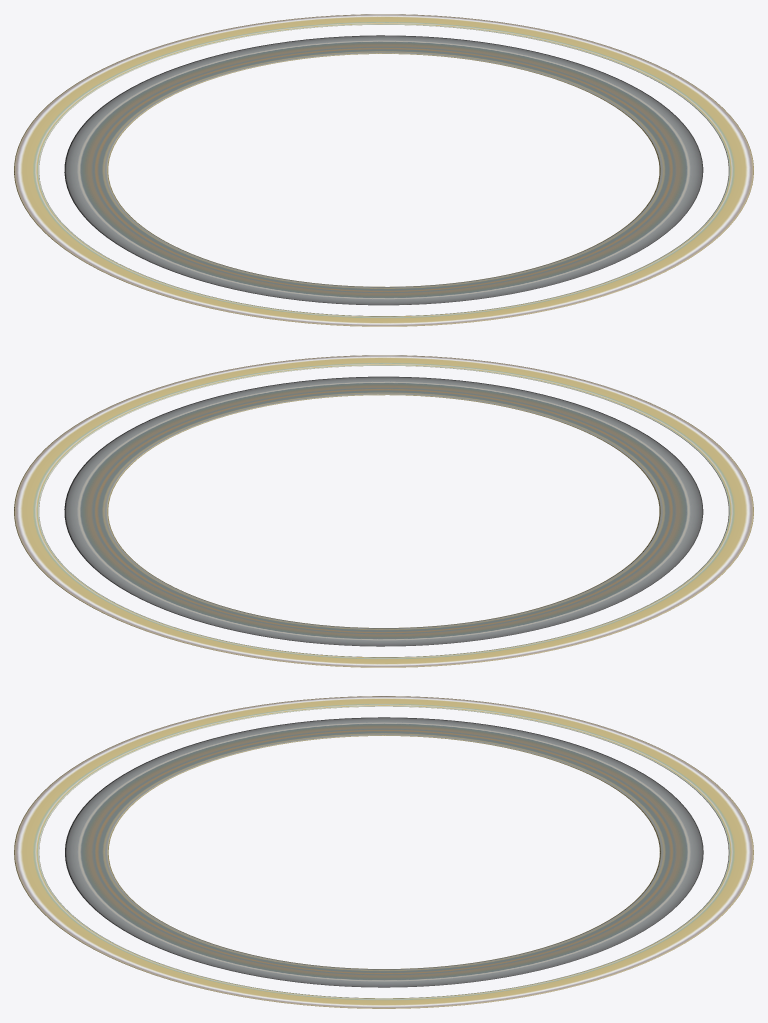
Rendered from SaturnRings.obj.
3 renders of one model, top to bottom at view 1: azimuth 30°, elevation 25°; view 2: azimuth 150°, elevation 25°; view 3: azimuth 270°, elevation 25°, orthographic.
Parts seen in each view (by area): view 1: SaturnRingsMesh; view 2: SaturnRingsMesh; view 3: SaturnRingsMesh.
Boxes of the visible parts, x1,y1,x2,y2 form: SaturnRingsMesh: [14, 14, 753, 326]; SaturnRingsMesh: [14, 355, 753, 667]; SaturnRingsMesh: [14, 696, 753, 1008].
Bounding box in the file's own units: 44.17 × 0.0833 × 44.17.
